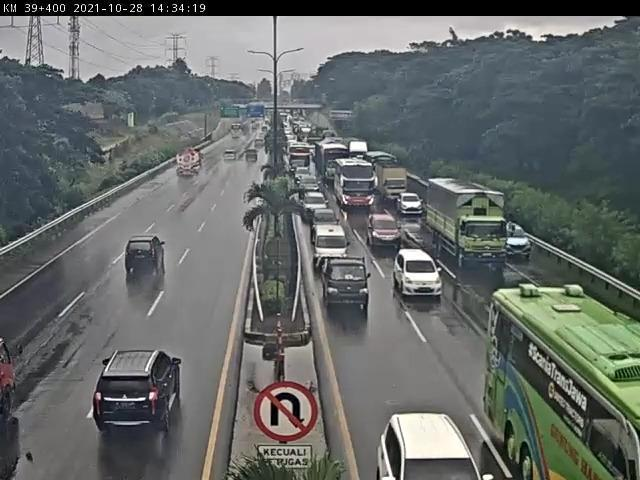bus: (486, 285, 640, 480), (333, 158, 377, 210), (288, 142, 314, 172)
car: (92, 351, 186, 436), (323, 256, 372, 310), (391, 245, 440, 298), (127, 234, 168, 272), (312, 224, 347, 267), (365, 216, 403, 251), (503, 221, 533, 259), (397, 193, 425, 218), (303, 192, 328, 218), (300, 176, 323, 198), (313, 207, 338, 225), (294, 167, 316, 184)
truck: (425, 177, 506, 270), (321, 148, 354, 187), (380, 165, 411, 205), (174, 146, 205, 181)
